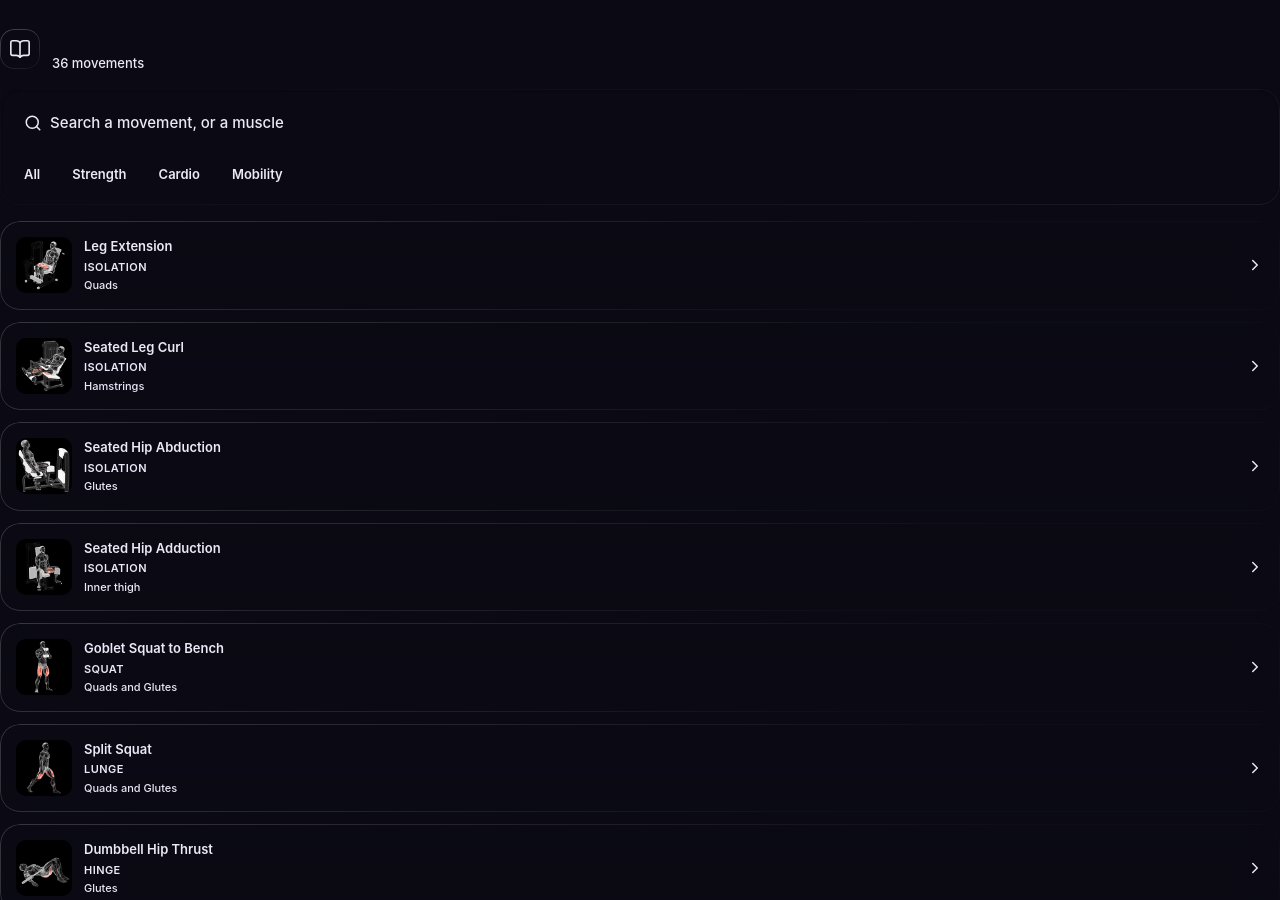
searching › puts everything back when the search is cleared
Type "lat pulldown" into the search field.
click(653, 123); type("lat pulldown")  # box 50,112 -> 1256,134
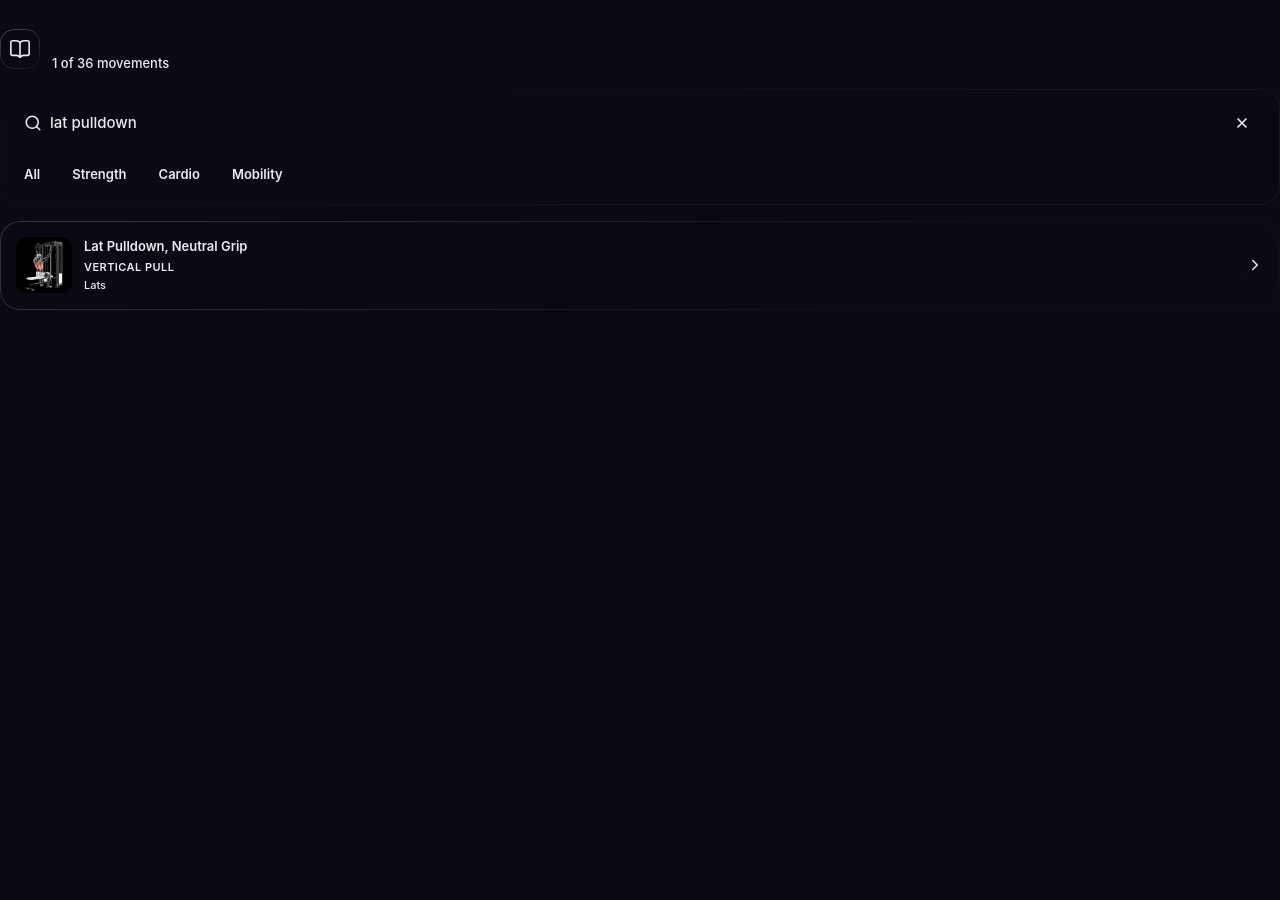
Click the button named "clear the search".
click(1242, 123)  # box 1228,109 -> 1256,137
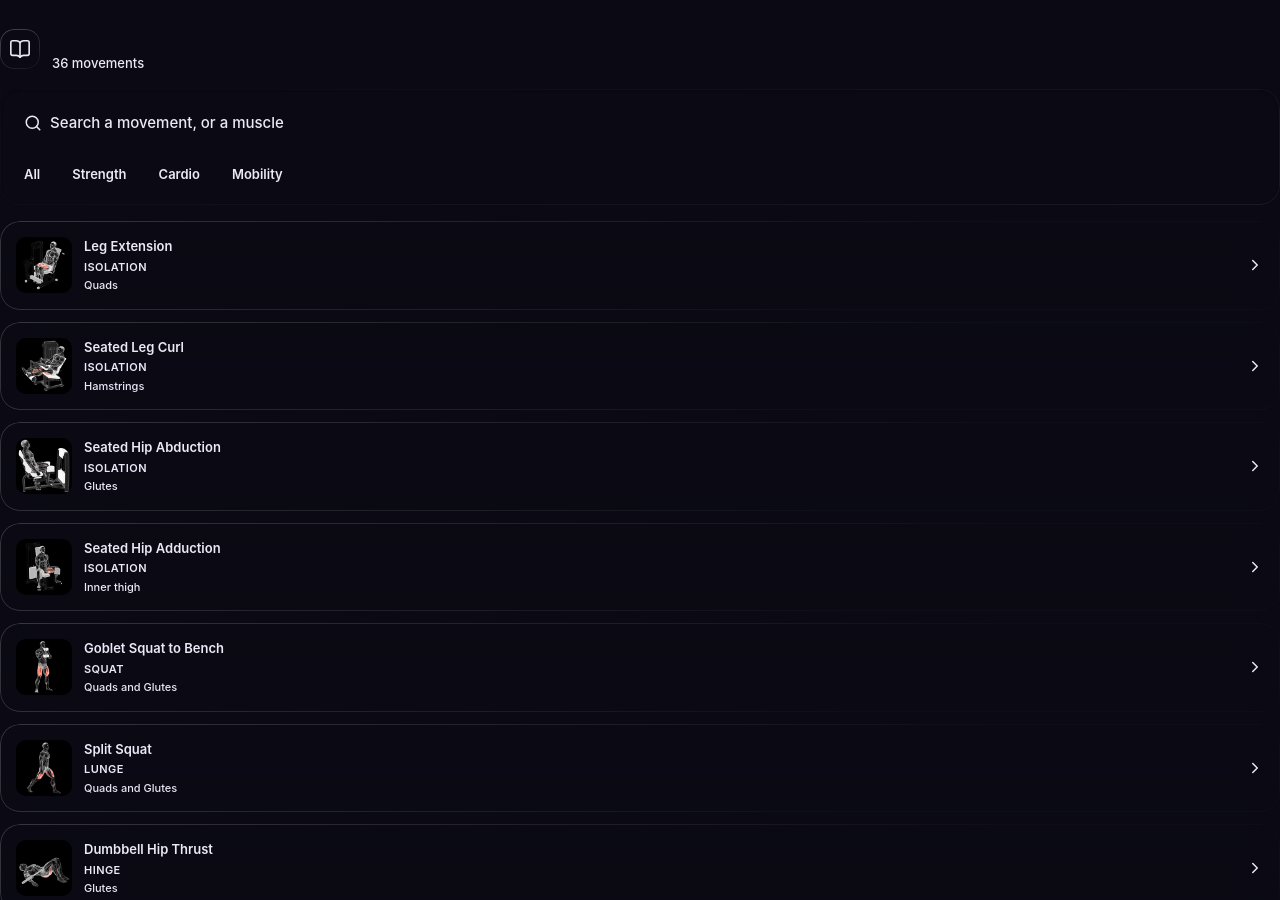
Check: the number of links is 36
